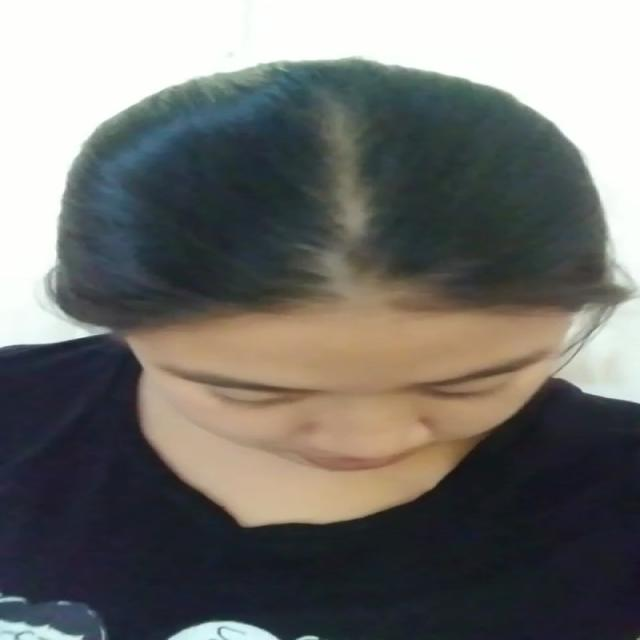9_cabeza_baja: (45, 56, 628, 474)
